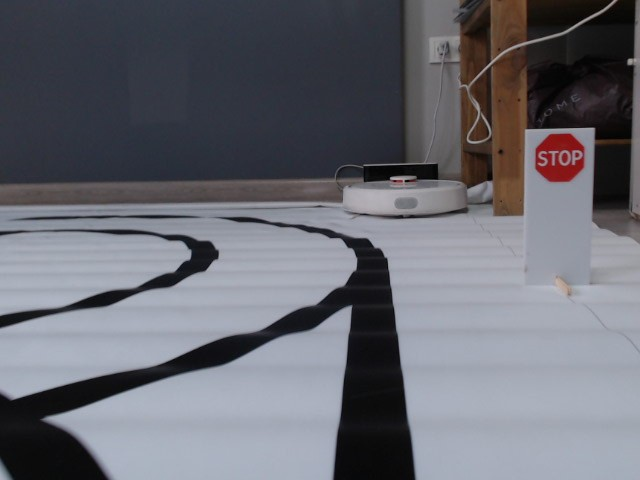Stop: (533, 132, 587, 184)
